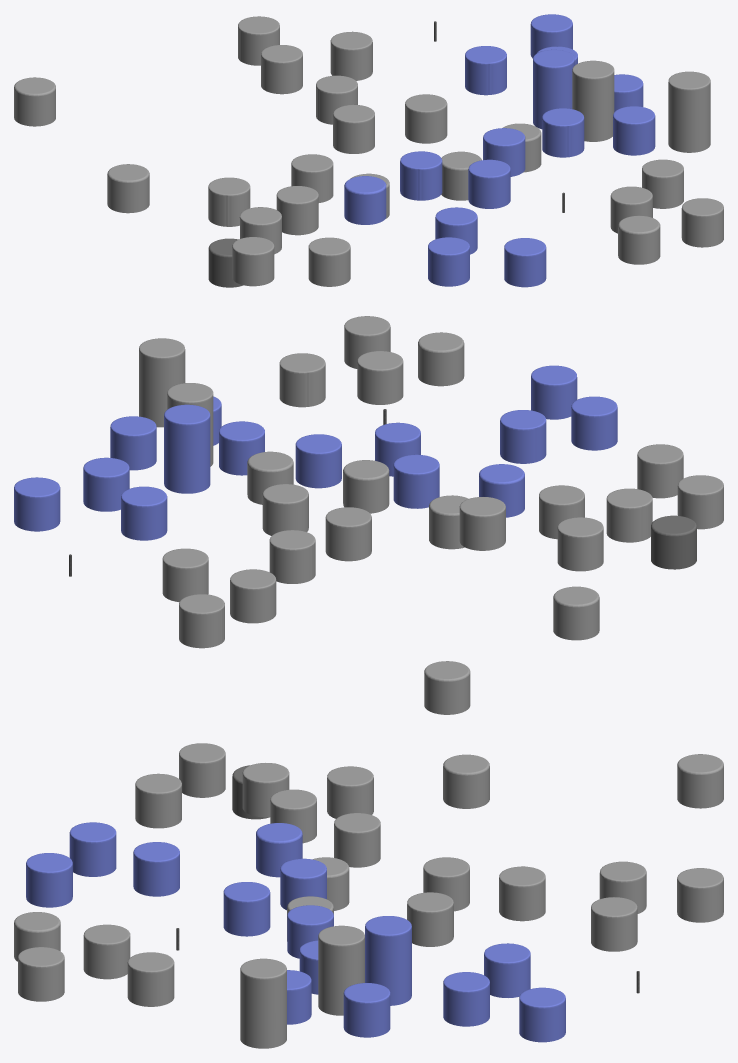
Rendered from L_1_2_faesser.glb.
3 views of the same model, one above another, from view 1: azimuth 30°, elevation 25°; view 2: azimuth 150°, elevation 25°; view 3: azimuth 270°, elevation 25° (orthographic). The views are drawn at different scales.
Parts seen in each view (by area): view 1: Combined_663DC61D3, Combined_663DC61D8, Combined_663DC61D7, Combined_663DC61D4, Combined_663DC61D6, Combined_663DC61D5, Combined_663DC61D, Combined_663DC61D2, Combined_663DC61D9, Cylinder_98FAC4B5, Cylinder_98FAC4B7, Cylinder_98FAC4B6 (+7 smaller); view 2: Combined_663DC61D9, Combined_663DC61D4, Combined_663DC61D8, Combined_663DC61D7, Combined_663DC61D6, Combined_663DC61D, Combined_663DC61D5, Combined_663DC61D3, Combined_663DC61D2, Cylinder_98FAC4B6, Cylinder_98FAC4B5, Cylinder_CEBC613A7 (+8 smaller); view 3: Combined_663DC61D, Combined_663DC61D4, Combined_663DC61D9, Combined_663DC61D6, Combined_663DC61D8, Combined_663DC61D7, Combined_663DC61D5, Combined_663DC61D3, Combined_663DC61D2, Cylinder_98FAC4B5, Cylinder_98FAC4B6, Cylinder_98FAC4B7 (+6 smaller).
Part boxes in pixels (left/top/right/bottom): Combined_663DC61D3: left=400, top=128, right=525, bottom=208; Combined_663DC61D8: left=238, top=16, right=372, bottom=94; Combined_663DC61D7: left=316, top=75, right=447, bottom=153; Combined_663DC61D4: left=428, top=207, right=546, bottom=287; Combined_663DC61D6: left=232, top=207, right=350, bottom=286; Combined_663DC61D5: left=208, top=154, right=333, bottom=235; Combined_663DC61D: left=610, top=159, right=723, bottom=247; Combined_663DC61D2: left=542, top=74, right=655, bottom=157; Combined_663DC61D9: left=465, top=14, right=577, bottom=95; Cylinder_98FAC4B5: left=668, top=71, right=710, bottom=152; Cylinder_98FAC4B7: left=572, top=60, right=614, bottom=141; Cylinder_98FAC4B6: left=533, top=49, right=574, bottom=129; Combined_663DC61D9: left=14, top=457, right=167, bottom=540; Combined_663DC61D4: left=500, top=365, right=617, bottom=463; Combined_663DC61D8: left=162, top=548, right=276, bottom=648; Combined_663DC61D7: left=262, top=484, right=371, bottom=583; Combined_663DC61D6: left=606, top=444, right=723, bottom=542; Combined_663DC61D: left=279, top=316, right=403, bottom=407; Combined_663DC61D5: left=459, top=485, right=603, bottom=571; Combined_663DC61D3: left=295, top=422, right=439, bottom=508; Combined_663DC61D2: left=110, top=396, right=264, bottom=475; Cylinder_98FAC4B6: left=164, top=404, right=210, bottom=493; Cylinder_98FAC4B5: left=139, top=338, right=185, bottom=427; Cylinder_CEBC613A7: left=553, top=586, right=599, bottom=640; Combined_663DC61D: left=18, top=924, right=174, bottom=1006; Combined_663DC61D4: left=26, top=822, right=179, bottom=907; Combined_663DC61D9: left=443, top=943, right=565, bottom=1042; Combined_663DC61D6: left=135, top=743, right=289, bottom=828; Combined_663DC61D8: left=591, top=861, right=723, bottom=951; Combined_663DC61D7: left=407, top=857, right=545, bottom=946; Combined_663DC61D5: left=270, top=766, right=380, bottom=867; Combined_663DC61D3: left=223, top=858, right=333, bottom=958; Combined_663DC61D2: left=287, top=940, right=390, bottom=1037; Cylinder_98FAC4B5: left=240, top=958, right=286, bottom=1048; Cylinder_98FAC4B6: left=365, top=916, right=411, bottom=1005; Cylinder_98FAC4B7: left=318, top=925, right=364, bottom=1015.
Bounding box in the file's own units: 0.8298 × 0.13 × 0.9099.
4 materials, 1 textured.
